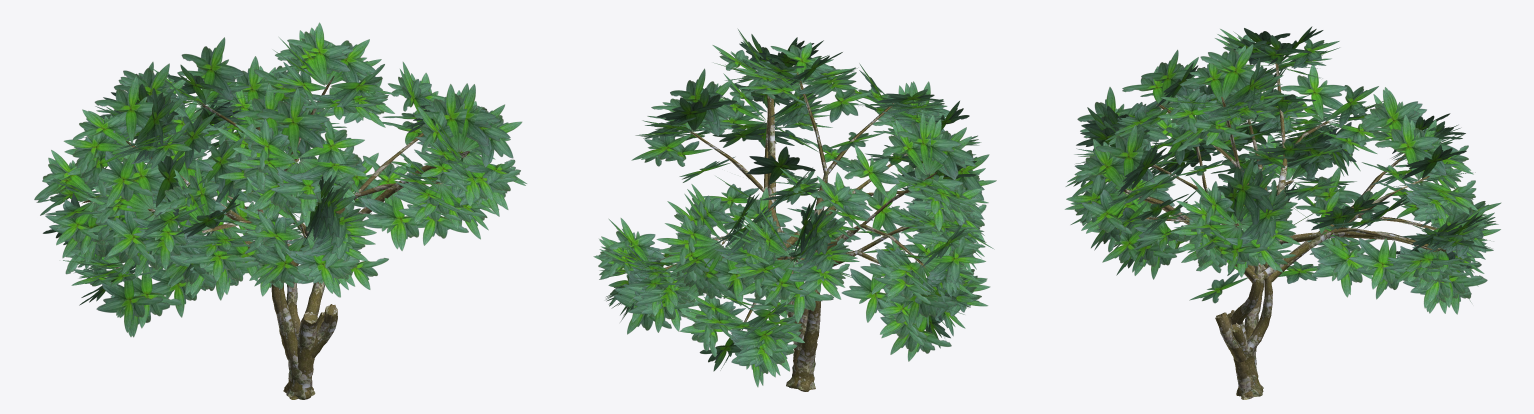
The model's file is Bush_Jungle_Small_01.glb.
3 views of the same model, side by side, from view 1: azimuth 30°, elevation 25°; view 2: azimuth 150°, elevation 25°; view 3: azimuth 270°, elevation 25° (orthographic). The views are drawn at different scales.
Visible parts, largest first — view 1: bush_04_B.001; view 2: bush_04_B.001; view 3: bush_04_B.001.
Boxes of the visible parts, x1=… form: bush_04_B.001: x1=34, y1=22, x2=526, y2=399; bush_04_B.001: x1=593, y1=28, x2=996, y2=391; bush_04_B.001: x1=1065, y1=26, x2=1501, y2=399.
Bounding box in the file's own units: 1.15 × 0.9326 × 1.14.
Materials: 2 (2 with a texture image).
